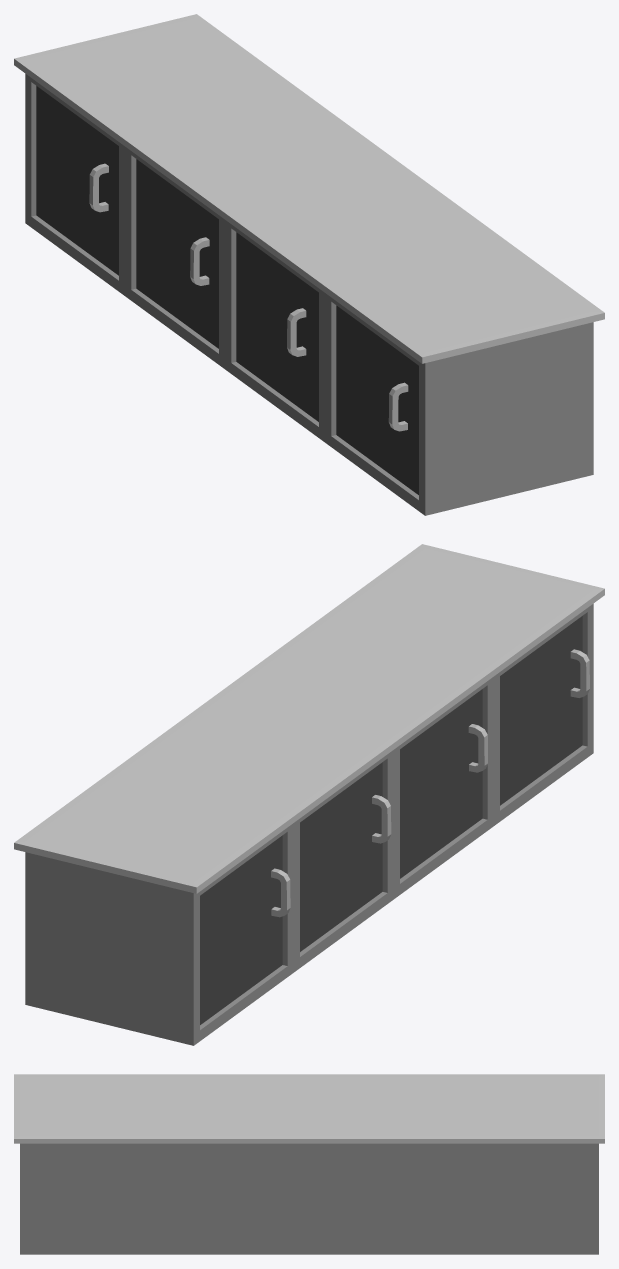
Rendered from Counter With Cupbaords.fbx.
3 renders of one model, top to bottom at view 1: azimuth 30°, elevation 25°; view 2: azimuth 150°, elevation 25°; view 3: azimuth 270°, elevation 25°, orthographic. The views are drawn at different scales.
Parts seen in each view (by area): view 1: Counter With Cupboards; view 2: Counter With Cupboards; view 3: Counter With Cupboards.
Part boxes in pixels (box(x1,y1,x2,y2)): Counter With Cupboards: box(14, 14, 604, 515); Counter With Cupboards: box(14, 544, 604, 1045); Counter With Cupboards: box(14, 1074, 604, 1254).
Bounding box in the file's own units: 75.07 × 61.61 × 279.
